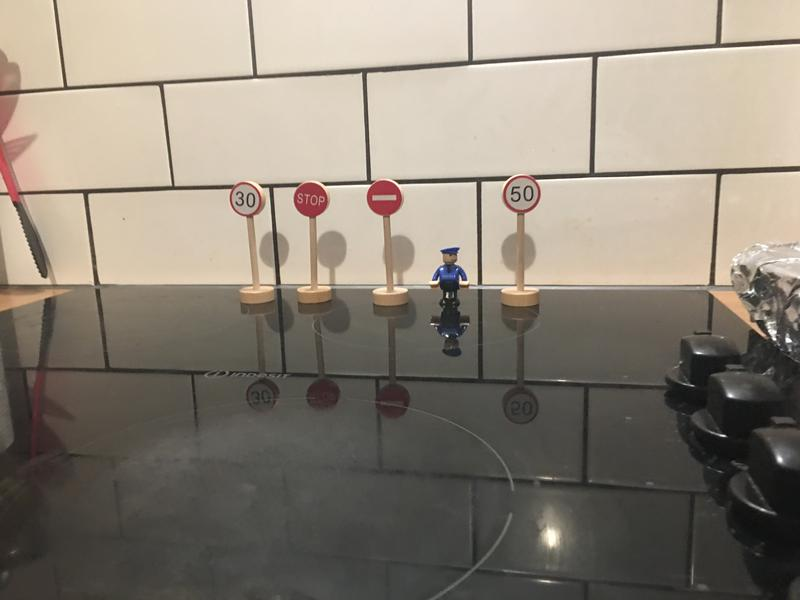Traffic_Sign_30: (231, 183, 261, 214)
Traffic_Sign_50: (504, 175, 541, 213)
Traffic_Sign_No_Entry: (367, 180, 401, 216)
Traffic_Sign_Stop: (295, 182, 328, 216)
person: (428, 248, 471, 309)
